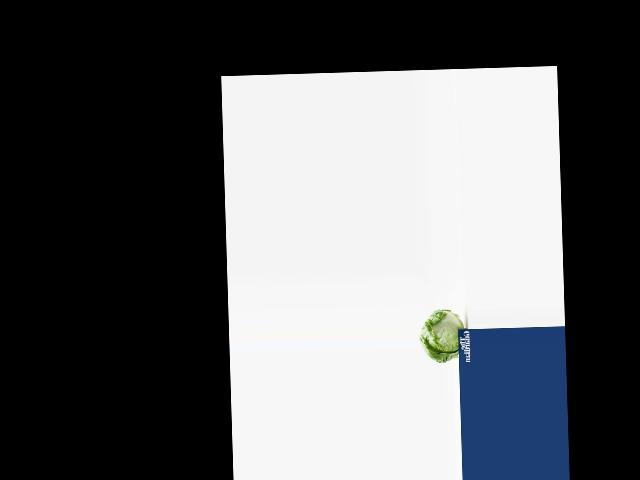lettuce: (416, 309, 465, 362)
